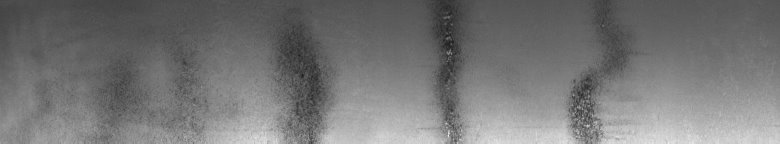hc: (424, 7, 464, 136)
